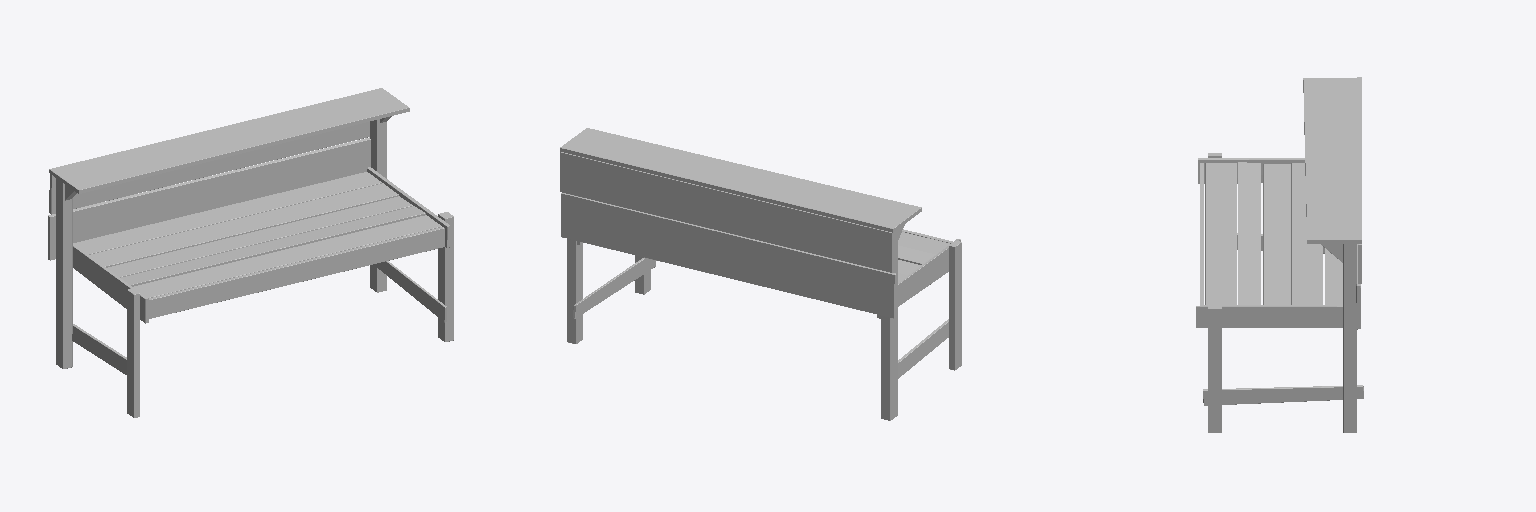
File: table1.obj
3 views of the same model, side by side, from view 1: azimuth 30°, elevation 25°; view 2: azimuth 150°, elevation 25°; view 3: azimuth 270°, elevation 25° (orthographic).
Parts seen in each view (by area): view 1: Cube.017; view 2: Cube.017; view 3: Cube.017.
Part boxes in pixels (x1,y1,x2,y2): Cube.017: (48, 88, 453, 417); Cube.017: (560, 128, 961, 420); Cube.017: (1196, 77, 1363, 432).
Size of the model in its own units: 1.72 by 0.9549 by 0.7484.